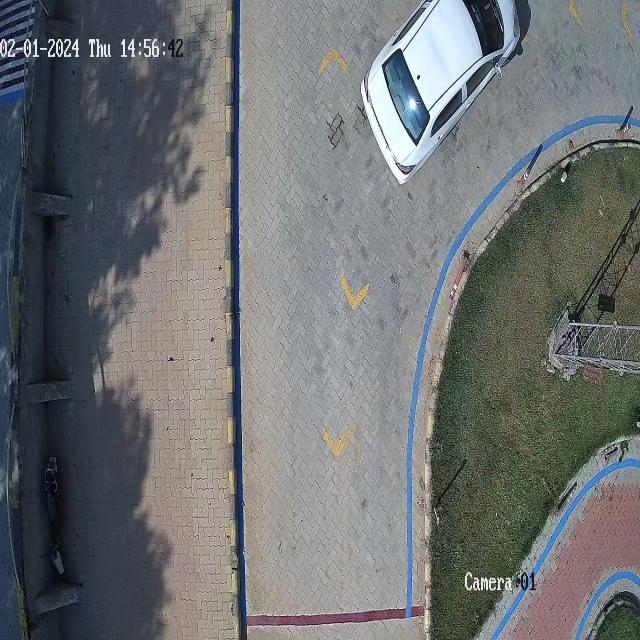car: (361, 0, 520, 184)
